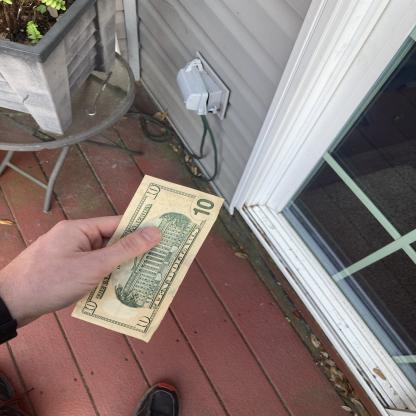ten-back: (70, 175, 227, 344)
